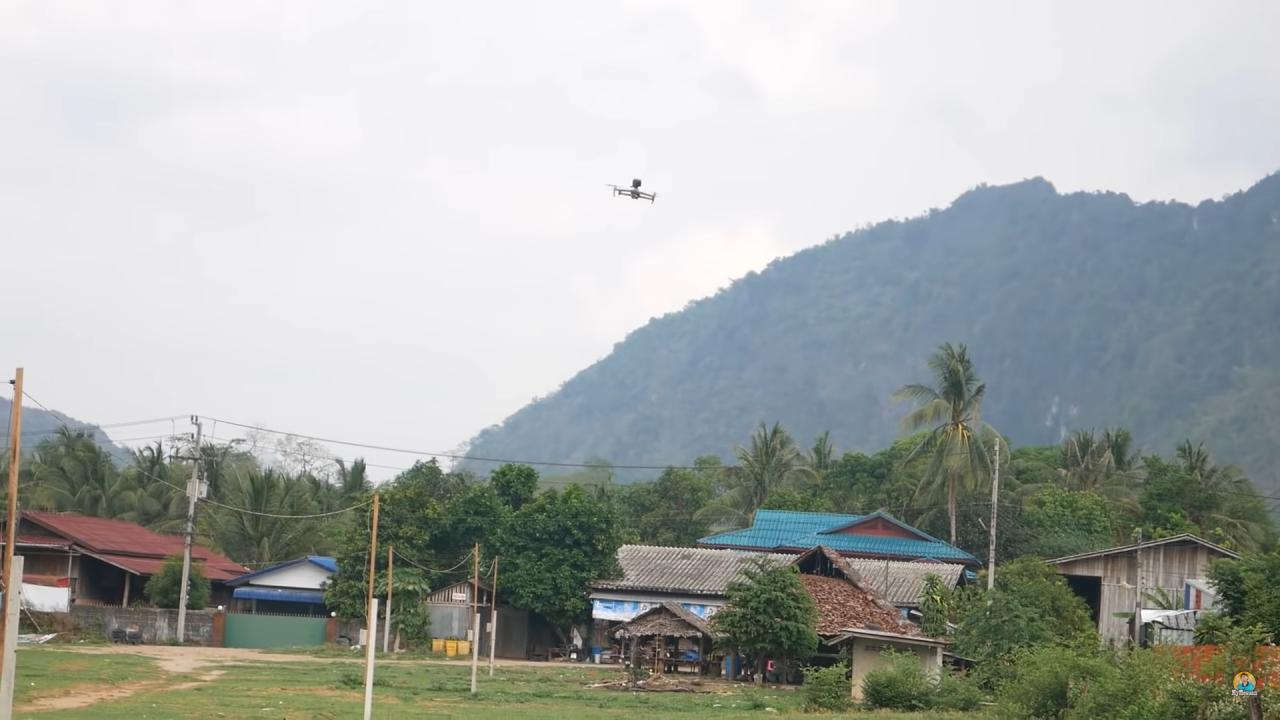Drone: (596, 162, 668, 217)
